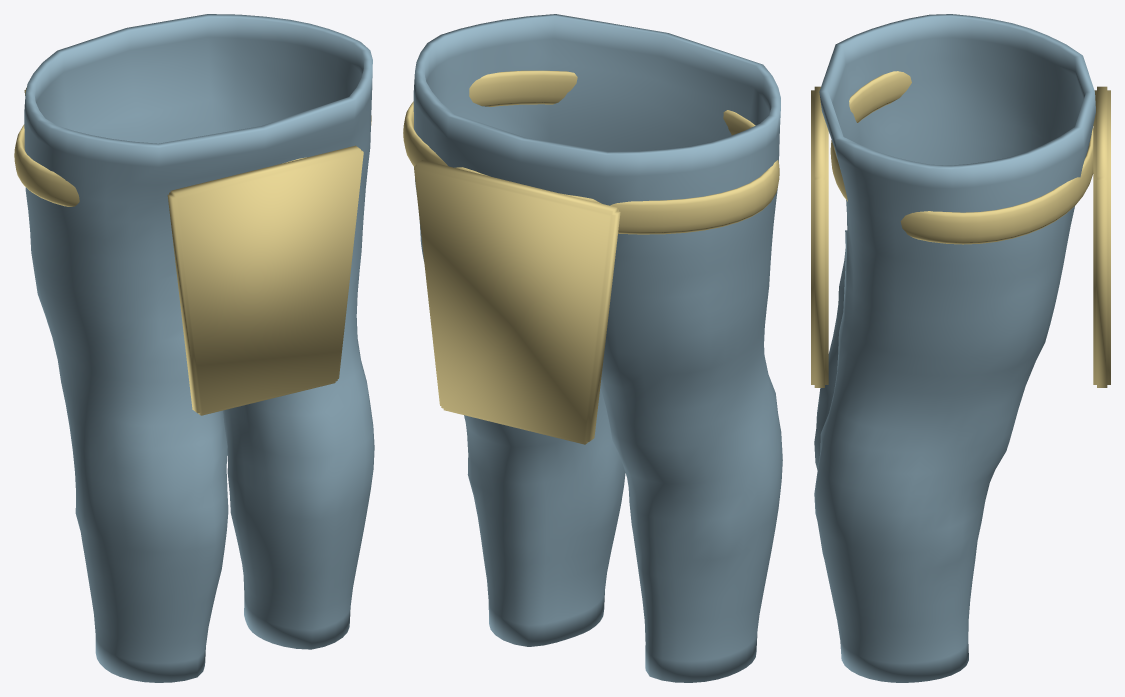
The model's file is Pants.fbx.
The picture shows the model from 3 angles, left to right: view 1: azimuth 30°, elevation 25°; view 2: azimuth 150°, elevation 25°; view 3: azimuth 270°, elevation 25°; orthographic projection. The views are drawn at different scales.
Visible parts, largest first — view 1: CostumeLegs; view 2: CostumeLegs; view 3: CostumeLegs.
Boxes of the visible parts, x1,y1,x2,y2 form: CostumeLegs: (14, 14, 374, 682); CostumeLegs: (403, 14, 782, 682); CostumeLegs: (811, 14, 1110, 682).
Bounding box in the file's own units: 0.518 × 0.8119 × 0.4119.
